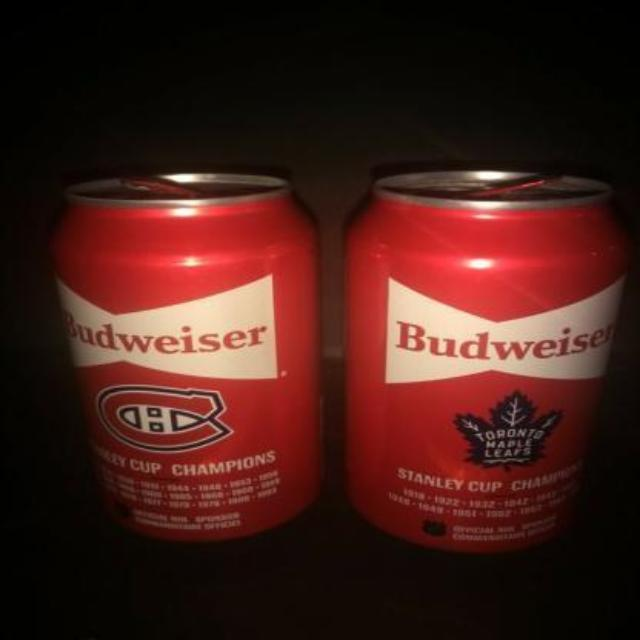metal: (345, 169, 625, 549), (52, 172, 317, 537)
